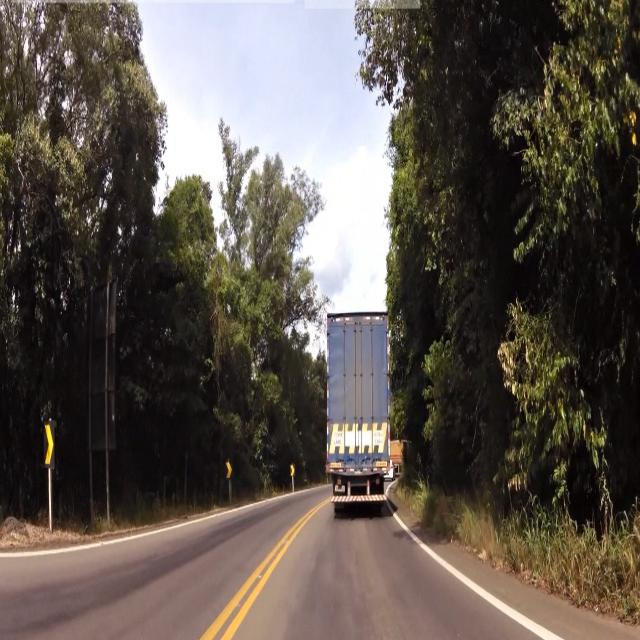Del: (41, 422, 59, 470), (223, 460, 233, 484)
